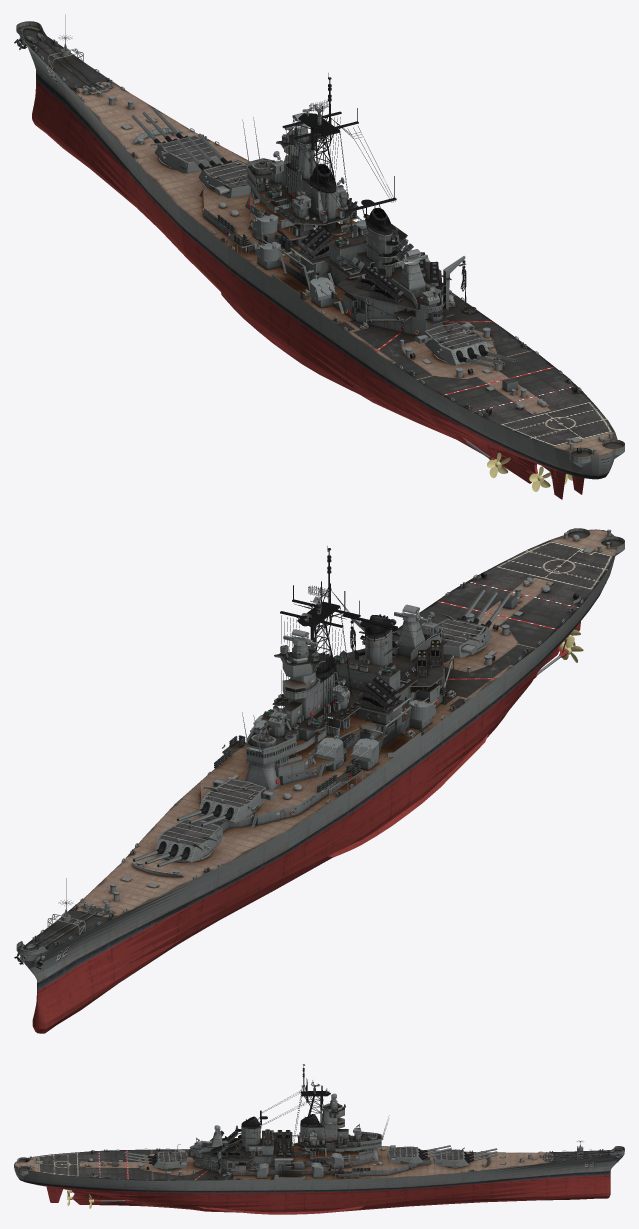
The model's file is USSNewJerseyBB62.fbx.
The picture shows the model from 3 angles, top to bottom: view 1: azimuth 30°, elevation 25°; view 2: azimuth 150°, elevation 25°; view 3: azimuth 270°, elevation 25°; orthographic projection. The views are drawn at different scales.
Visible parts, largest first — view 1: Object.9, Object.10, Object.18, Object.20, Object.14, Object.17, Object.16, Object.12, Object.15, Object.13; view 2: Object.9, Object.10, Object.18, Object.20, Object.13, Object.16, Object.12, Object.15, Object.17, Object.14; view 3: Object.9, Object.10, Object.18, Object.20, Object.14, Object.13, Object.17, Object.12, Object.16, Object.15, Object.21, Object.22.
Part boxes in pixels (<box>): Object.9: <box>16,14,624,483</box>; Object.10: <box>18,25,624,457</box>; Object.18: <box>14,33,581,452</box>; Object.20: <box>298,214,439,303</box>; Object.14: <box>415,323,493,365</box>; Object.17: <box>417,322,486,350</box>; Object.16: <box>204,161,248,191</box>; Object.12: <box>150,135,221,173</box>; Object.15: <box>161,135,216,163</box>; Object.13: <box>198,160,250,198</box>; Object.9: <box>16,528,624,1033</box>; Object.10: <box>18,528,624,950</box>; Object.18: <box>14,540,611,969</box>; Object.20: <box>354,632,440,712</box>; Object.13: <box>198,778,276,823</box>; Object.16: <box>203,779,273,807</box>; Object.12: <box>155,818,223,863</box>; Object.15: <box>158,818,220,847</box>; Object.17: <box>437,618,485,650</box>; Object.14: <box>438,614,492,657</box>; Object.9: <box>14,1064,624,1214</box>; Object.10: <box>14,1085,623,1180</box>; Object.18: <box>25,1087,620,1180</box>; Object.20: <box>210,1130,291,1158</box>; Object.14: <box>152,1149,188,1169</box>; Object.13: <box>387,1145,423,1164</box>; Object.17: <box>158,1150,188,1164</box>; Object.12: <box>433,1147,468,1167</box>; Object.16: <box>387,1145,417,1159</box>; Object.15: <box>433,1149,463,1160</box>; Object.21: <box>466,1148,497,1162</box>; Object.22: <box>420,1145,451,1159</box>.
Size of the model in its own units: 2285 by 4485 by 18083.
